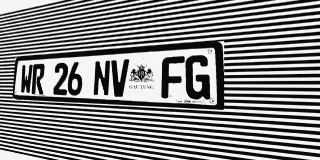2: (53, 62, 68, 95)
6: (67, 61, 83, 96)
F: (161, 56, 185, 99)
G: (185, 55, 210, 100)
N: (93, 60, 111, 96)
R: (31, 64, 45, 94)
V: (110, 59, 129, 97)
W: (20, 64, 33, 94)
